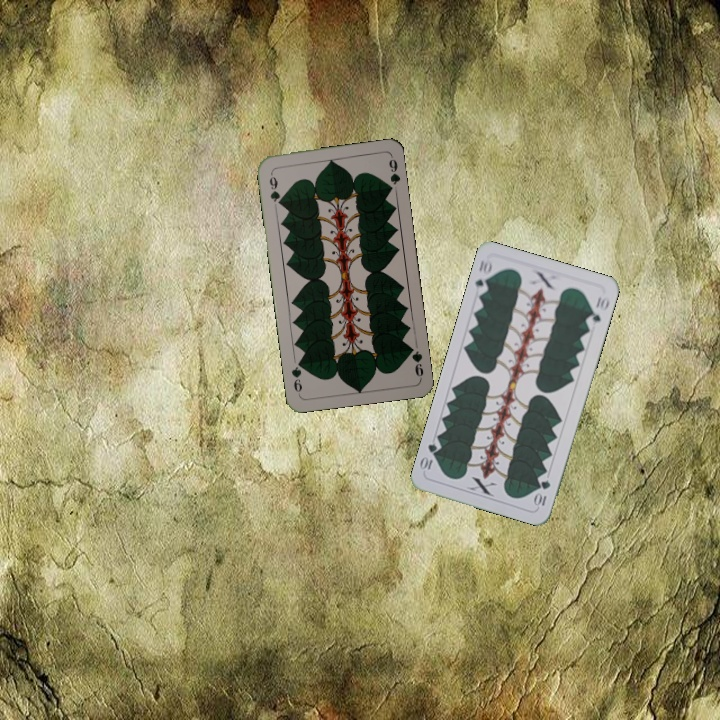G10: (471, 255, 495, 297), (531, 476, 553, 508)
G9: (404, 341, 426, 381), (265, 169, 284, 208)
